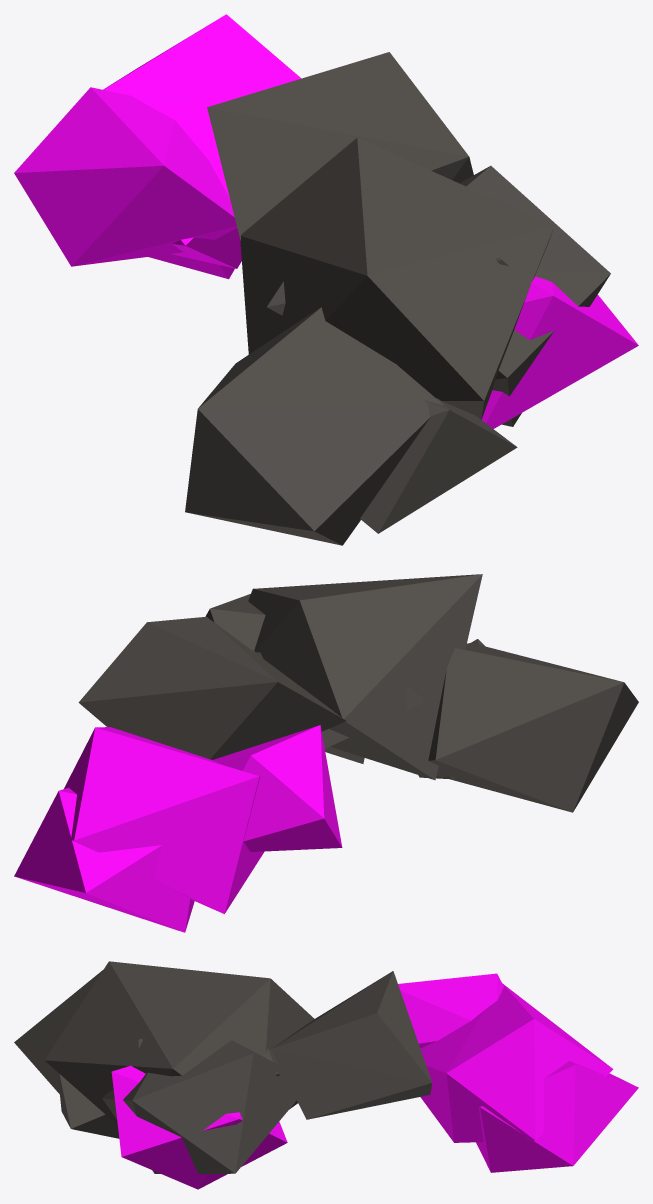
File: objet_caillou.glb
3 renders of one model, top to bottom at view 1: azimuth 30°, elevation 25°; view 2: azimuth 150°, elevation 25°; view 3: azimuth 270°, elevation 25°, orthographic. The views are drawn at different scales.
Visible parts, largest first — view 1: cailloux_pierre_sombre.002, cailloux_teinte.002; view 2: cailloux_pierre_sombre.002, cailloux_teinte.002; view 3: cailloux_pierre_sombre.002, cailloux_teinte.002.
Part boxes in pixels (x1,y1,x2,y2): cailloux_pierre_sombre.002: (185,52,610,545); cailloux_teinte.002: (14,14,638,428); cailloux_pierre_sombre.002: (78,574,638,812); cailloux_teinte.002: (14,725,342,932); cailloux_pierre_sombre.002: (14,961,432,1173); cailloux_teinte.002: (111,973,638,1189).
Size of the model in its own units: 0.1489 by 0.0812 by 0.2455.
